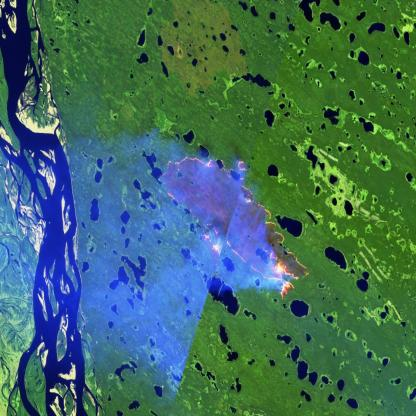fire: (160, 152, 312, 302)
